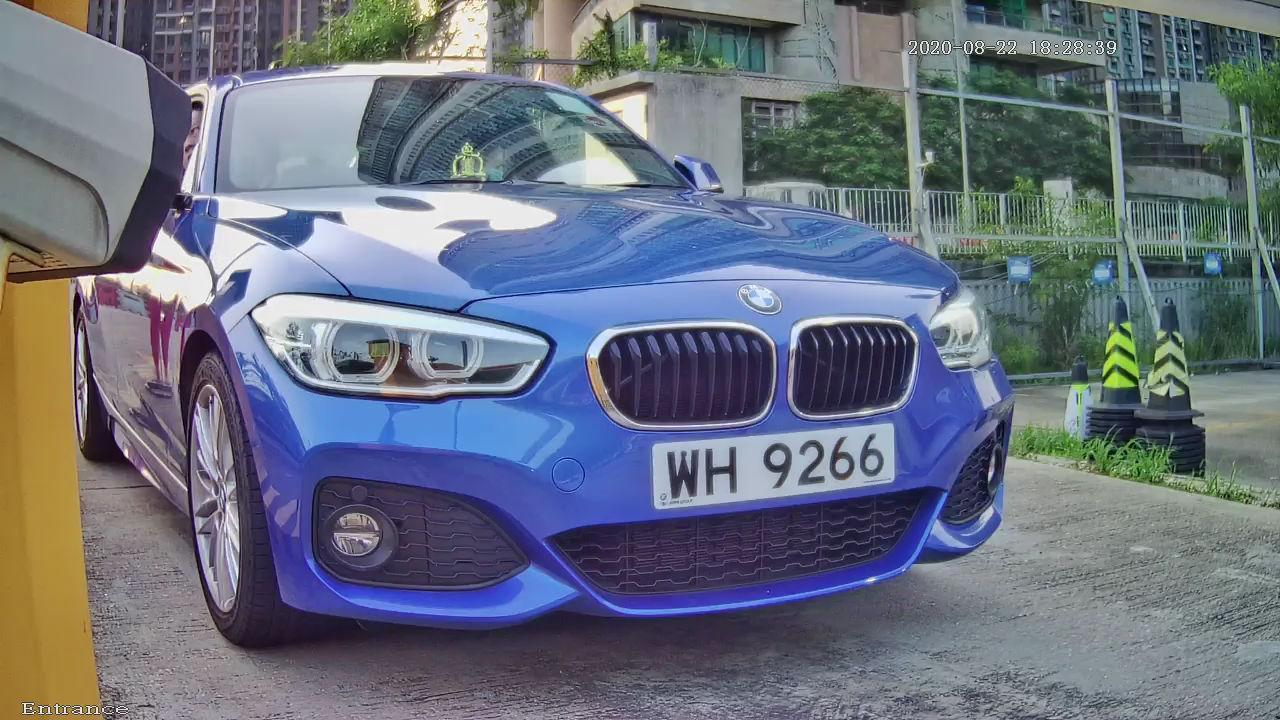Car: (41, 17, 1121, 685)
License Plate: (640, 412, 903, 518)
